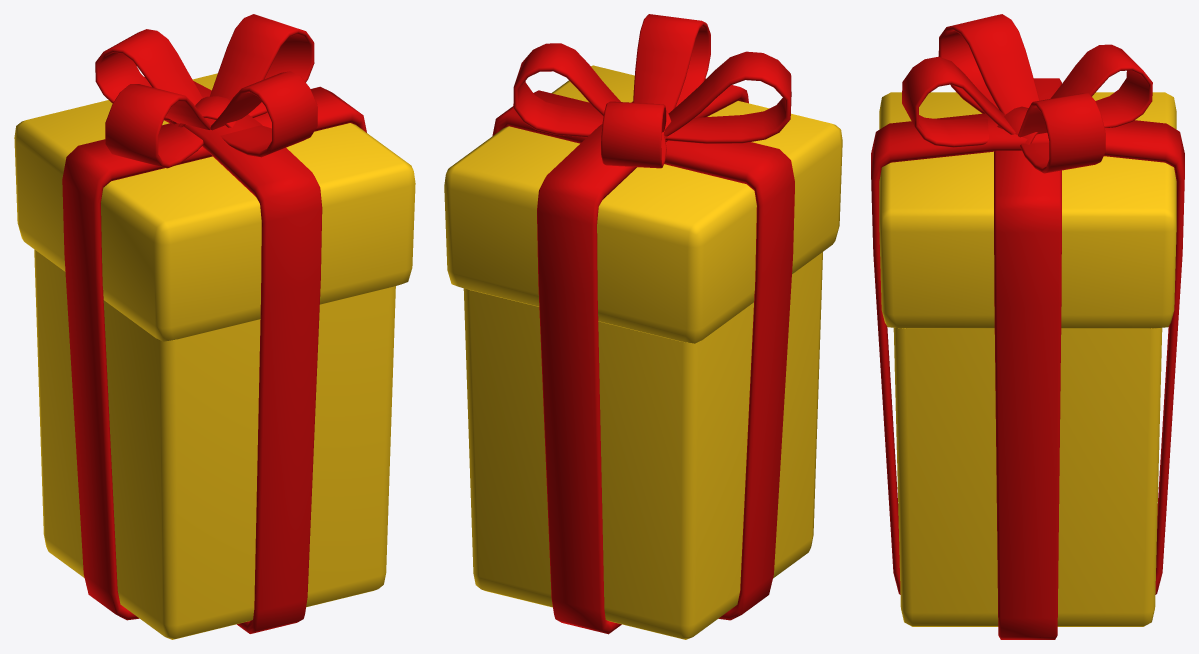
File: giftbox05.fbx
The picture shows the model from 3 angles, left to right: view 1: azimuth 30°, elevation 25°; view 2: azimuth 150°, elevation 25°; view 3: azimuth 270°, elevation 25°; orthographic projection.
Visible parts, largest first — view 1: GIFTBOX_002; view 2: GIFTBOX_002; view 3: GIFTBOX_002.
Part boxes in pixels (x1,y1,x2,y2): GIFTBOX_002: (14, 14, 415, 639); GIFTBOX_002: (444, 14, 842, 639); GIFTBOX_002: (871, 14, 1184, 639).
Bounding box in the file's own units: 22.67 × 42.9 × 22.67.
